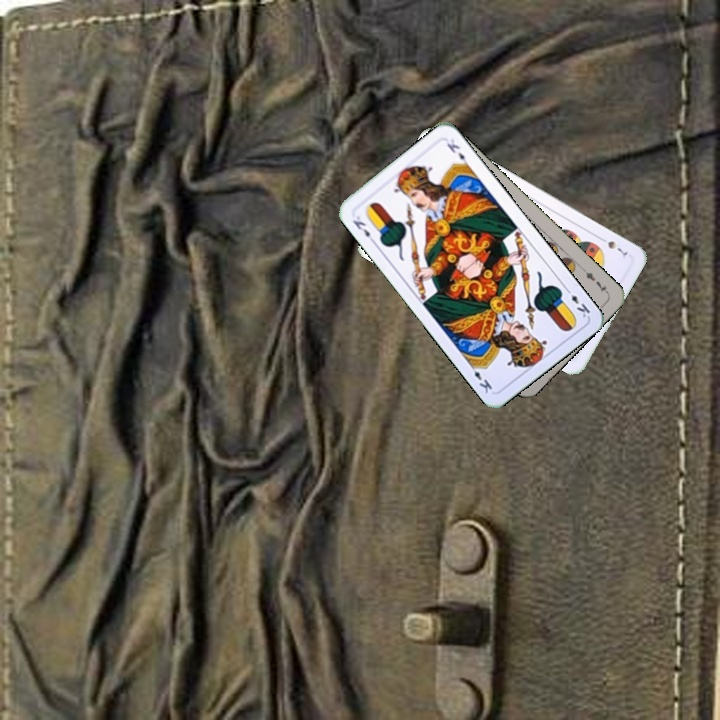E7: (579, 264, 611, 296)
EK: (561, 284, 593, 320), (348, 212, 378, 246)
S7: (595, 233, 630, 258)
